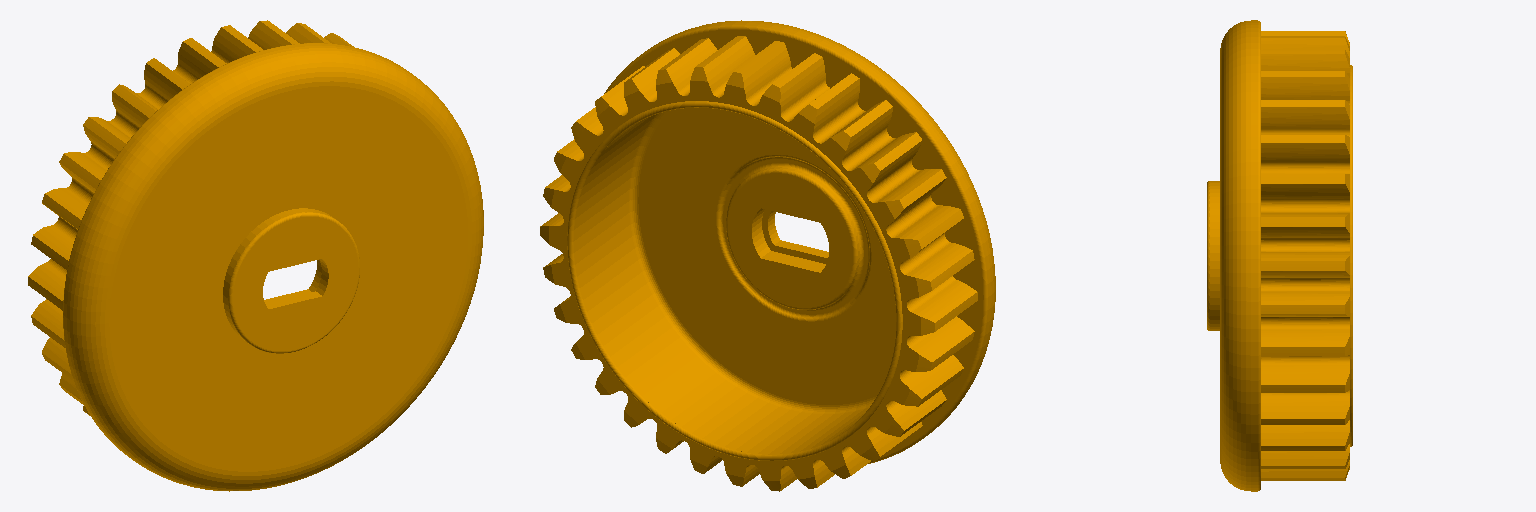
URDF robot description (gear_2_L0.75_T0.75):
<?xml version="1.0" encoding="utf-8"?>
<robot name="gear_2_L0.75_T0.75">
  <link name="gear_2_L0.75_T0.75Link">
    <contact>
      <lateral_friction value="1"/>
    </contact>
    <inertial>
      <origin rpy="0 0 0" xyz="0 0 0"/>
      <mass value="0.0"/>
      <inertia ixx="0" ixy="0" ixz="0" iyy="0" iyz="0" izz="0"/>
    </inertial>
    <visual>
      <origin rpy="0 0 0" xyz="0 0 0"/>
      <geometry>
        <mesh filename="generated_stl/gear/gear_2/gear_2_L0.75_T0.75/gear_2_L0.75_T0.75.stl" scale="0.01 0.01 0.01"/>
      </geometry>
    </visual>
    <collision>
      <origin rpy="0 0 0" xyz="0 0 0"/>
      <geometry>
        <mesh filename="generated_stl/gear/gear_2/gear_2_L0.75_T0.75/gear_2_L0.75_T0.75.stl" scale="0.01 0.01 0.01"/>
      </geometry>
    </collision>
  </link>
</robot>

--- What the picture shows (computed from the rendered views, not written in the file) ---
3 views of the same robot in one strip: view 1: azimuth 30°, elevation 25°; view 2: azimuth 150°, elevation 25°; view 3: azimuth 270°, elevation 25° (orthographic).
Model gear_2_L0.75_T0.75 with 1 links and 0 joints (none), rooted at gear_2_L0.75_T0.75Link, posed every joint at zero.
Links seen in each view (by area): view 1: gear_2_L0.75_T0.75Link; view 2: gear_2_L0.75_T0.75Link; view 3: gear_2_L0.75_T0.75Link.
Boxes of the visible links, x1,y1,x2,y2 form: gear_2_L0.75_T0.75Link: (28, 20, 483, 491); gear_2_L0.75_T0.75Link: (540, 20, 995, 491); gear_2_L0.75_T0.75Link: (1207, 20, 1352, 491).
Bounding box of the posed robot: 0.0375 × 0.0117 × 0.0375 m (x, y, z).
1 mesh visuals loaded from 1 distinct referenced files (1 binary STL).